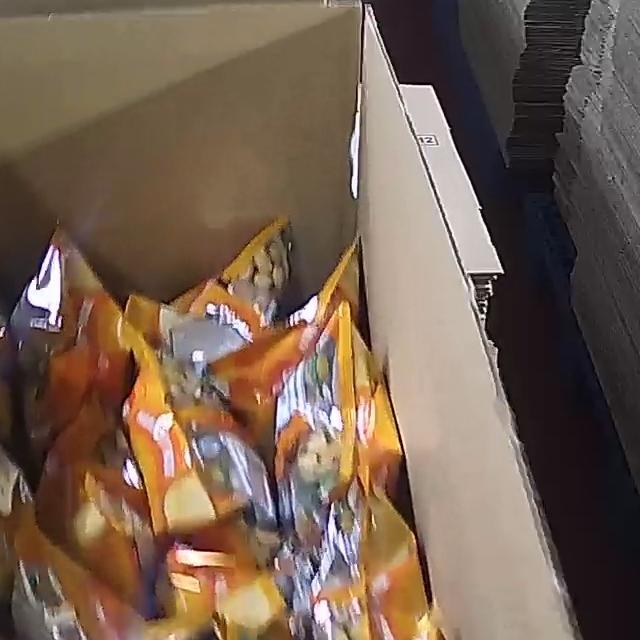cheese: (0, 210, 468, 640)
